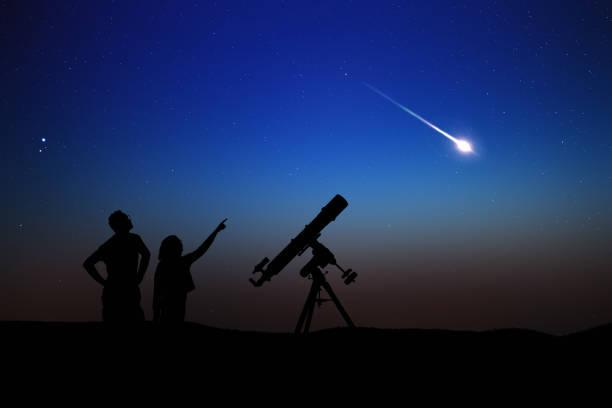meteor: (447, 134, 491, 162)
